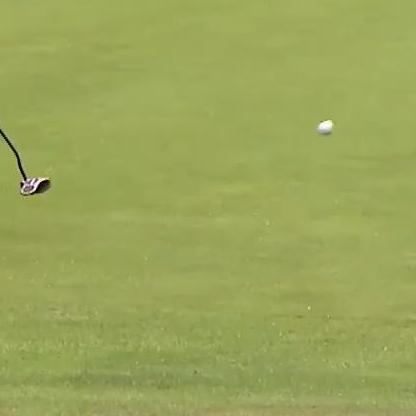golfball: (315, 117, 332, 134)
